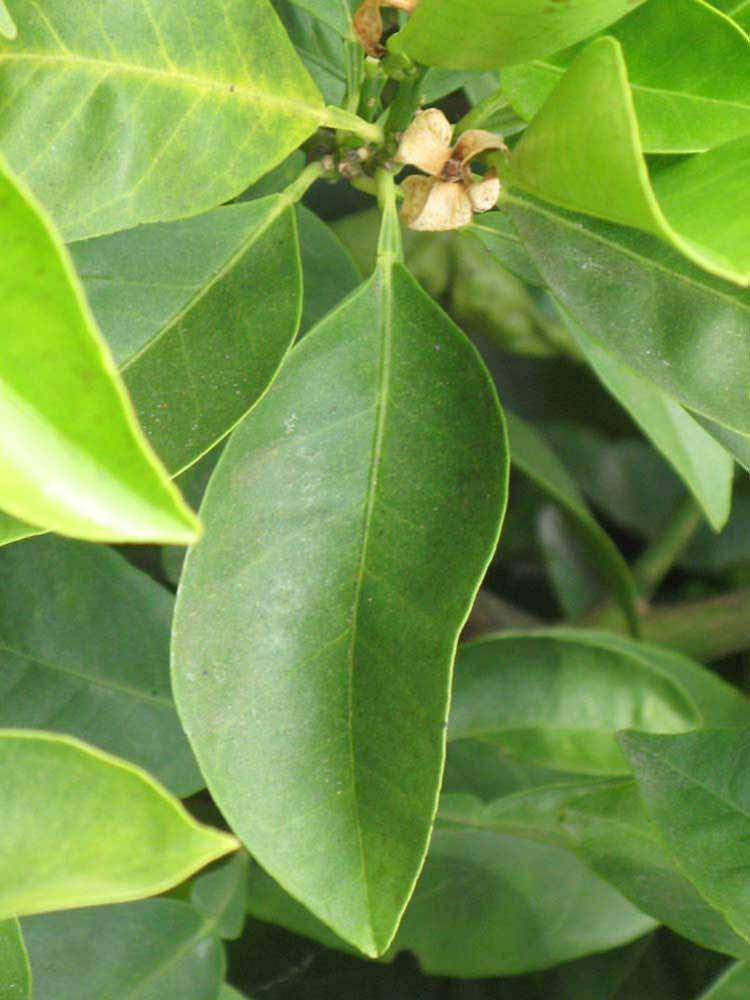Citrus Greening: (0, 0, 340, 190), (0, 241, 194, 545)
Healthy Citrus: (175, 265, 476, 955), (144, 193, 305, 451)
